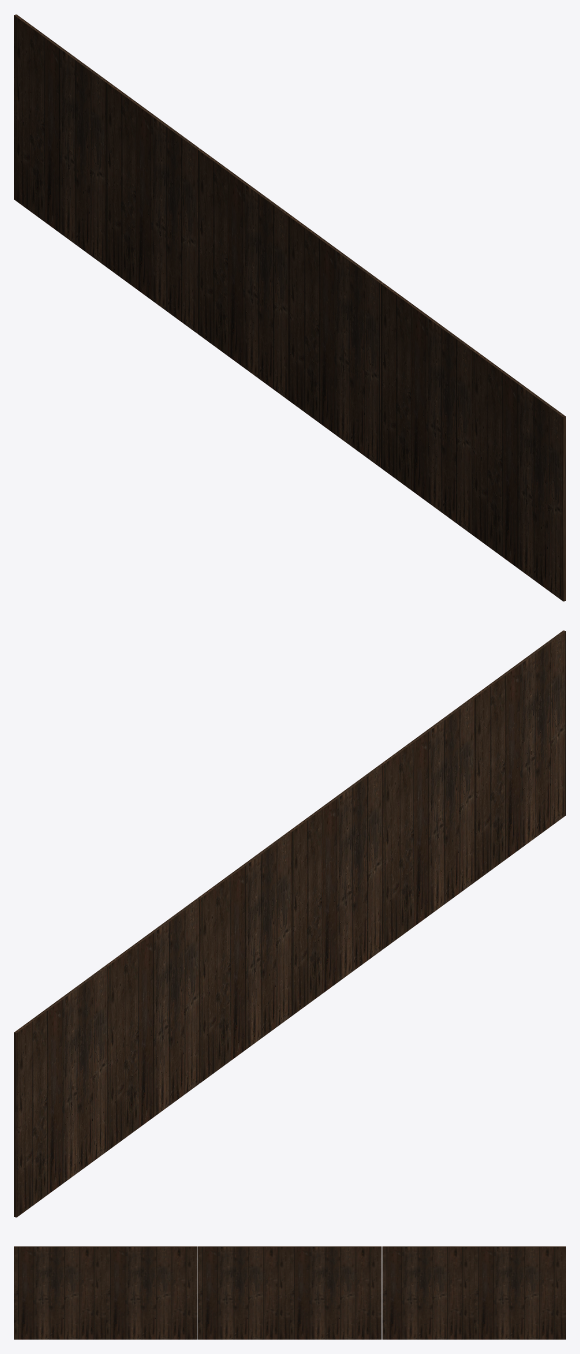
The model's file is modeloLoveCraftv2.glb.
3 views of the same model, one above another, from view 1: azimuth 30°, elevation 25°; view 2: azimuth 150°, elevation 25°; view 3: azimuth 270°, elevation 25° (orthographic). The views are drawn at different scales.
Parts seen in each view (by area): view 1: paredMadera (frente).018, paredMadera (frente).014, paredMadera (frente).016, paredMadera (frente).017, paredMadera (frente).015, paredMadera (frente); view 2: paredMadera (frente), paredMadera (frente).017, paredMadera (frente).015, paredMadera (frente).014, paredMadera (frente).016, paredMadera (frente).018; view 3: paredMadera (frente).014, paredMadera (frente), paredMadera (frente).015, paredMadera (frente).016, paredMadera (frente).017, paredMadera (frente).018.
Part boxes in pixels (x1,y1,x2,y2): paredMadera (frente).018: (472, 349, 565, 601); paredMadera (frente).014: (105, 81, 199, 332); paredMadera (frente).016: (288, 215, 382, 466); paredMadera (frente).017: (380, 282, 473, 534); paredMadera (frente).015: (197, 148, 290, 400); paredMadera (frente): (14, 14, 107, 265); paredMadera (frente): (14, 965, 107, 1217); paredMadera (frente).017: (380, 697, 474, 948); paredMadera (frente).015: (197, 831, 291, 1083); paredMadera (frente).014: (106, 899, 199, 1150); paredMadera (frente).016: (289, 764, 382, 1016); paredMadera (frente).018: (472, 630, 565, 881); paredMadera (frente).014: (382, 1246, 474, 1339); paredMadera (frente): (474, 1246, 565, 1339); paredMadera (frente).015: (290, 1246, 381, 1339); paredMadera (frente).016: (198, 1246, 289, 1339); paredMadera (frente).017: (106, 1246, 197, 1339); paredMadera (frente).018: (14, 1246, 105, 1339).
Bounding box in the file's own units: 0.04 × 2.59 × 14.
1 material, 1 textured.
